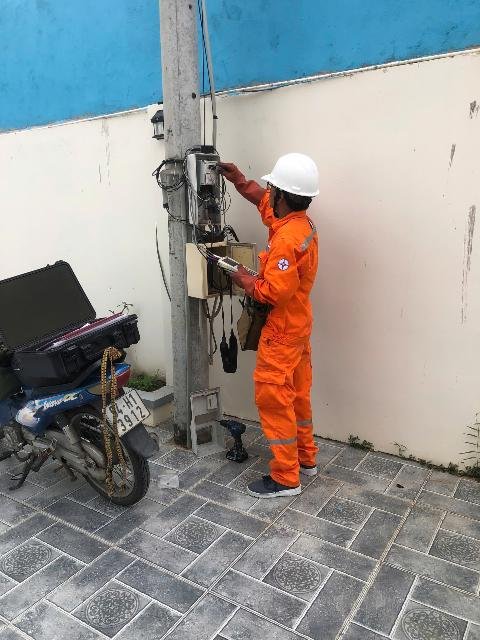gloves: (217, 158, 267, 201), (227, 267, 262, 291)
helmet: (254, 152, 325, 200)
shoes: (244, 467, 301, 500), (291, 454, 323, 481)
